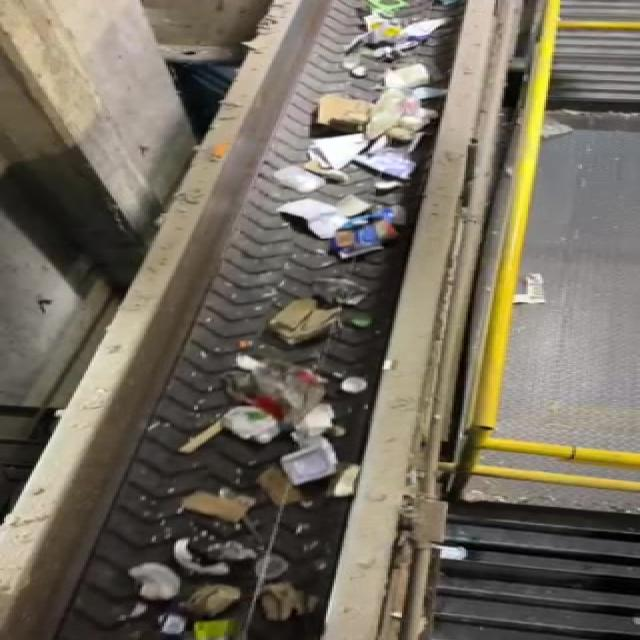paper: (178, 488, 261, 536)
